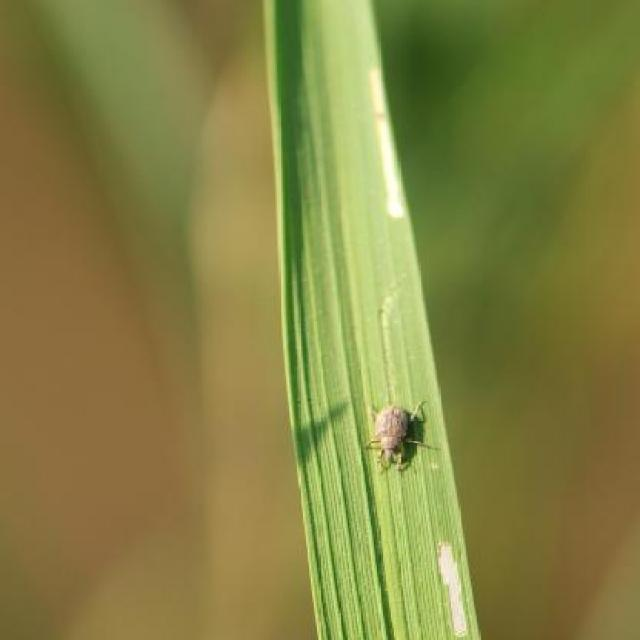rice-bug: (360, 398, 438, 472)
